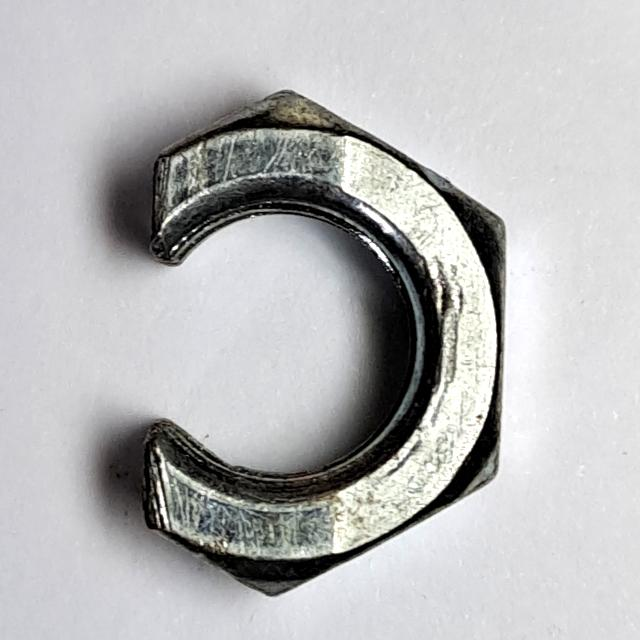Fracture: (130, 81, 519, 612)
